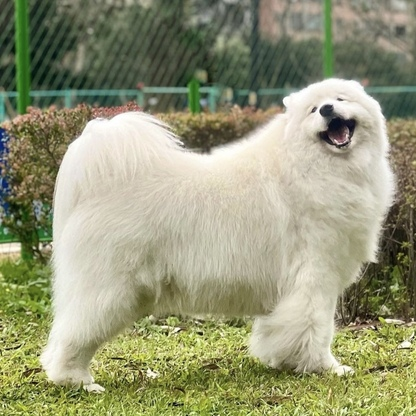samoyed: (35, 71, 400, 400)
